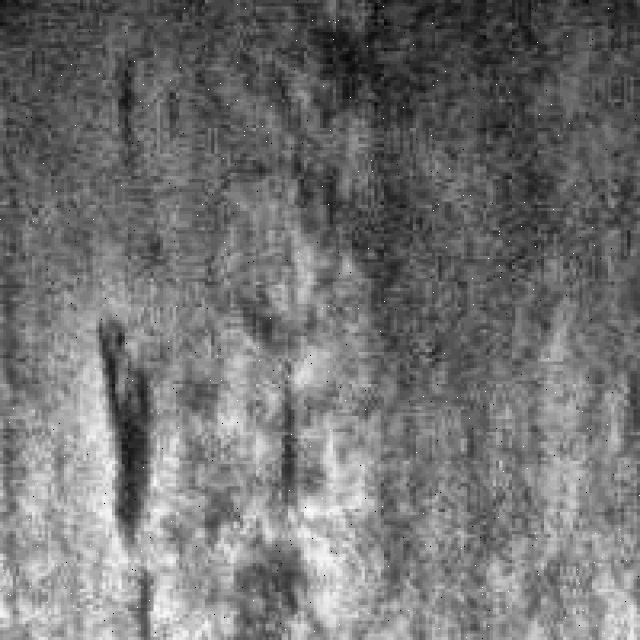Patches: (74, 298, 180, 560), (250, 330, 326, 534), (106, 54, 160, 154)
